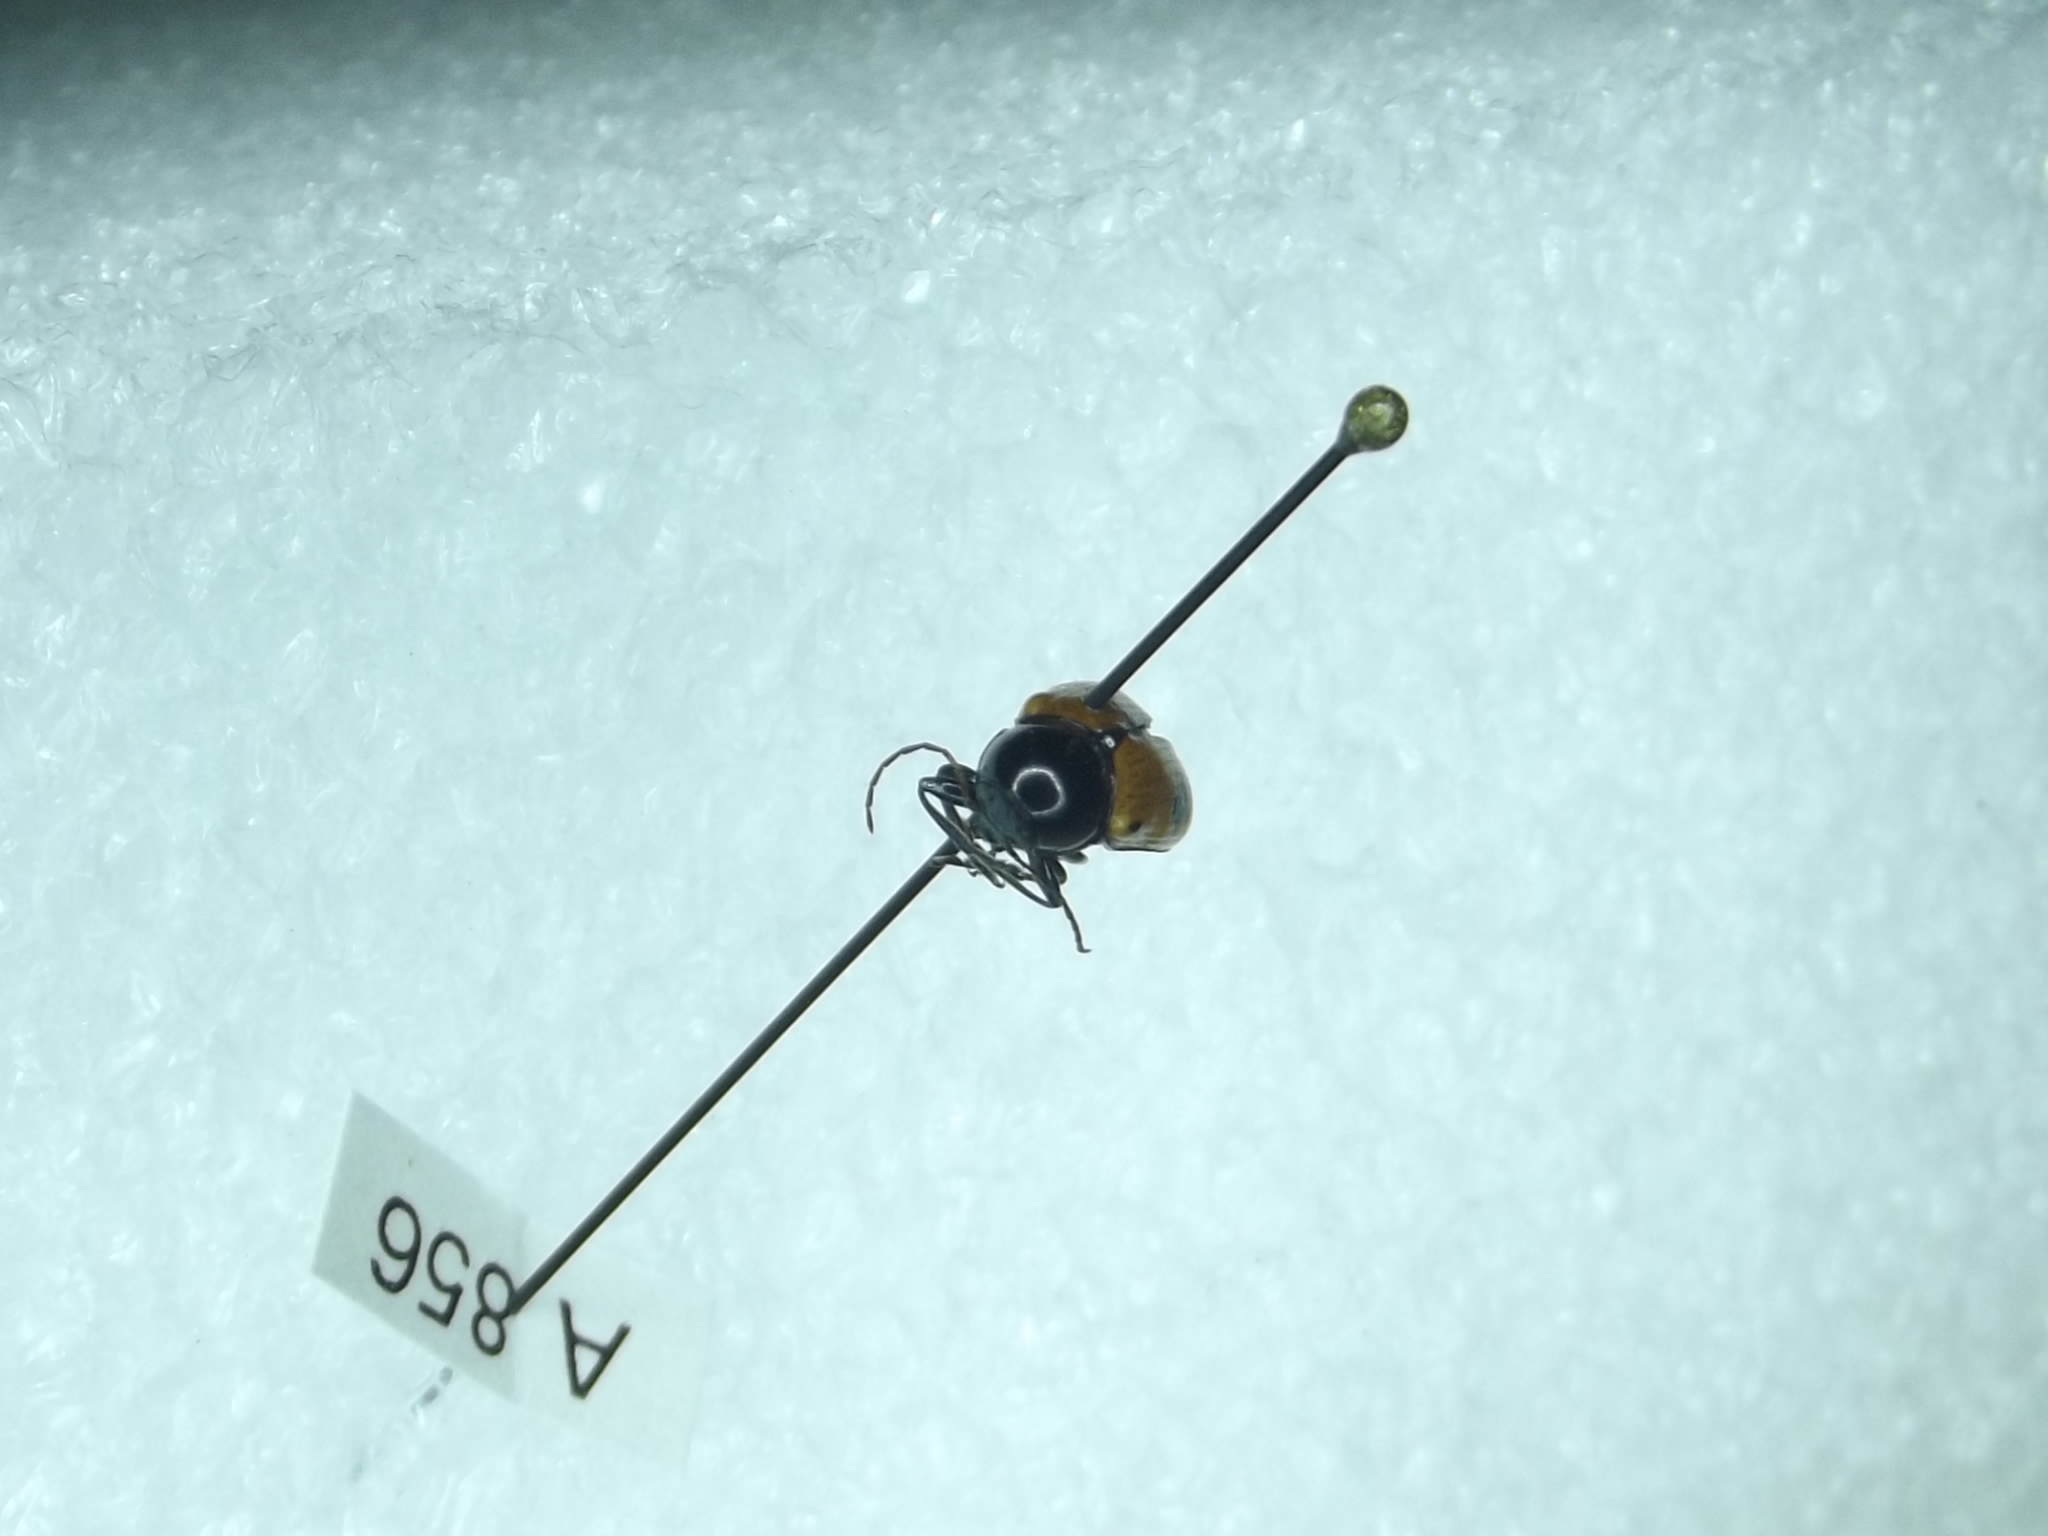Cryptocephalus_bipunctatus: (855, 679, 1213, 950)
